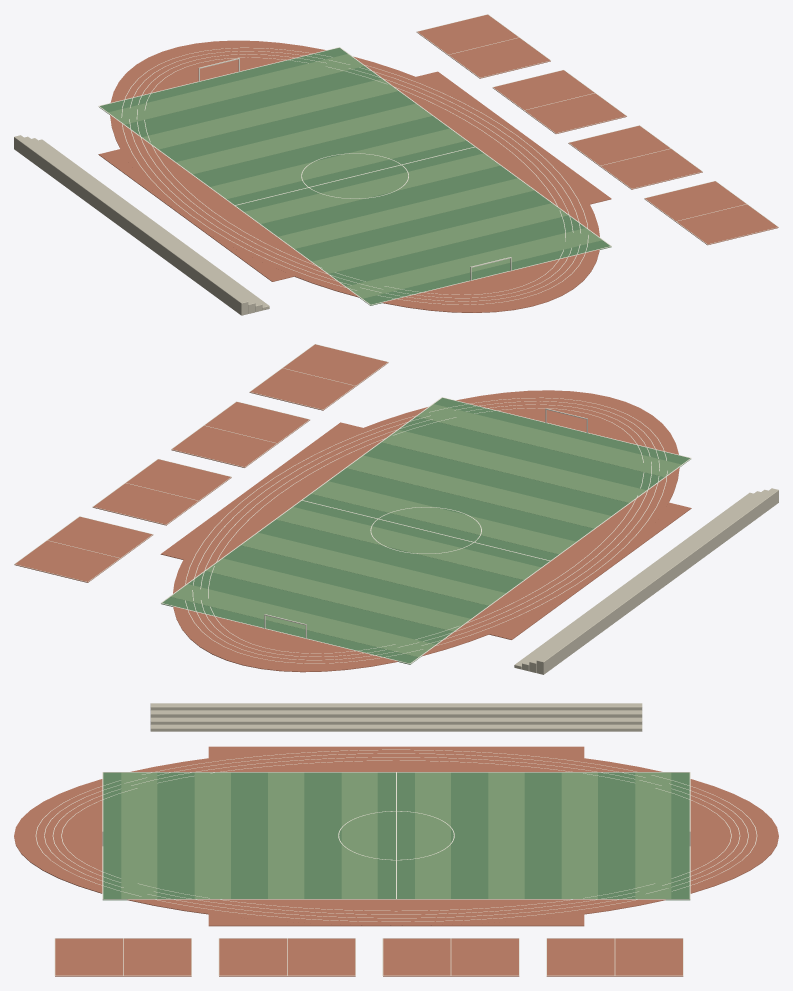
Rendered from sports.glb.
3 views of the same model, one above another, from view 1: azimuth 30°, elevation 25°; view 2: azimuth 150°, elevation 25°; view 3: azimuth 270°, elevation 25° (orthographic). The views are drawn at different scales.
Visible parts, largest first — view 1: pitch__grass2, pitch stripes__grass, running track__track, basketball courts__track, spectator terraces__stone, track lanes__white, track middle__track, pitch markings__white, basketball lines__white; view 2: pitch__grass2, pitch stripes__grass, running track__track, basketball courts__track, spectator terraces__stone, track lanes__white, track middle__track, pitch markings__white, basketball lines__white; view 3: pitch__grass2, pitch stripes__grass, running track__track, basketball courts__track, spectator terraces__stone, track lanes__white, track middle__track, basketball lines__white, pitch markings__white.
Boxes of the visible parts, <box> form: pitch__grass2: <box>99,47,611,305</box>; pitch stripes__grass: <box>108,54,601,298</box>; running track__track: <box>110,40,599,312</box>; basketball courts__track: <box>416,14,778,245</box>; spectator terraces__stone: <box>14,135,269,315</box>; track lanes__white: <box>121,47,588,304</box>; track middle__track: <box>98,71,611,281</box>; pitch markings__white: <box>98,47,611,305</box>; basketball lines__white: <box>416,14,778,244</box>; pitch__grass2: <box>161,398,690,664</box>; pitch stripes__grass: <box>170,404,681,657</box>; running track__track: <box>173,390,679,672</box>; basketball courts__track: <box>14,344,388,582</box>; spectator terraces__stone: <box>514,488,778,674</box>; track lanes__white: <box>185,397,667,663</box>; track middle__track: <box>160,422,691,639</box>; pitch markings__white: <box>161,397,691,663</box>; basketball lines__white: <box>14,344,388,582</box>; pitch__grass2: <box>103,772,689,900</box>; pitch stripes__grass: <box>121,772,671,898</box>; running track__track: <box>14,746,778,925</box>; basketball courts__track: <box>55,938,683,976</box>; spectator terraces__stone: <box>150,703,642,731</box>; track lanes__white: <box>35,749,757,921</box>; track middle__track: <box>208,746,584,926</box>; basketball lines__white: <box>54,938,683,975</box>; pitch markings__white: <box>102,772,690,899</box>.
Size of the model in its own units: 90.1 by 2.55 by 112.
